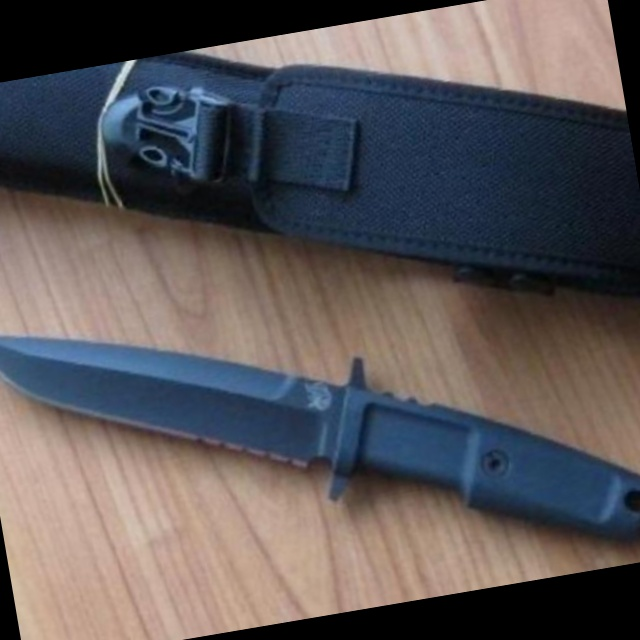Sharp-Object: (0, 227, 640, 640)
